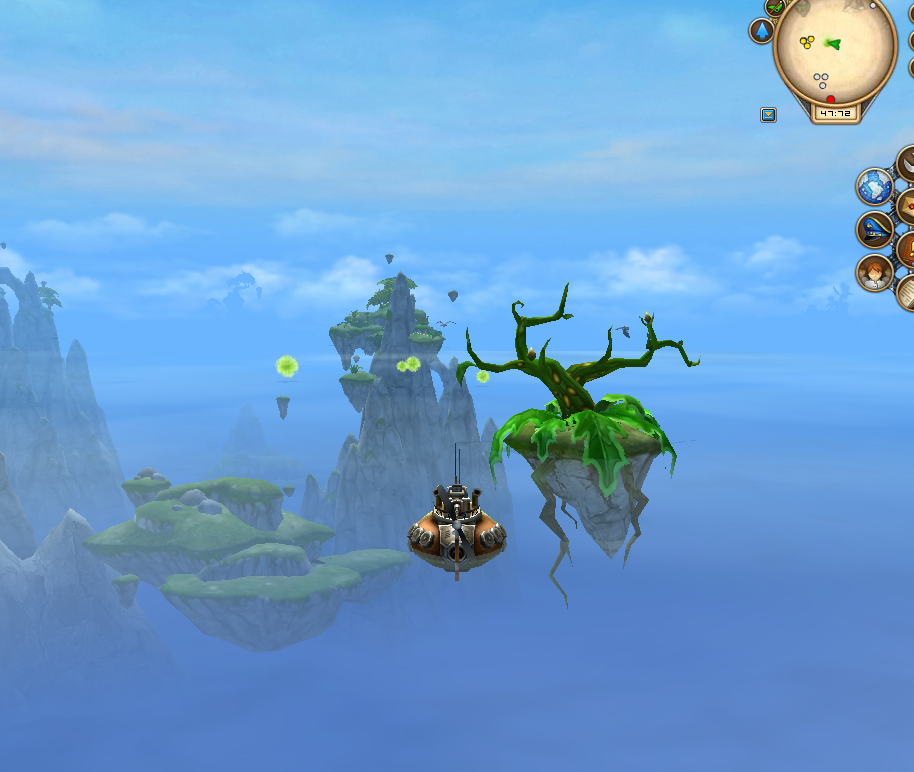dandelion-empty: (478, 295, 691, 555)
fluff: (274, 353, 298, 380), (402, 347, 424, 372), (473, 365, 490, 387), (395, 358, 409, 374)
